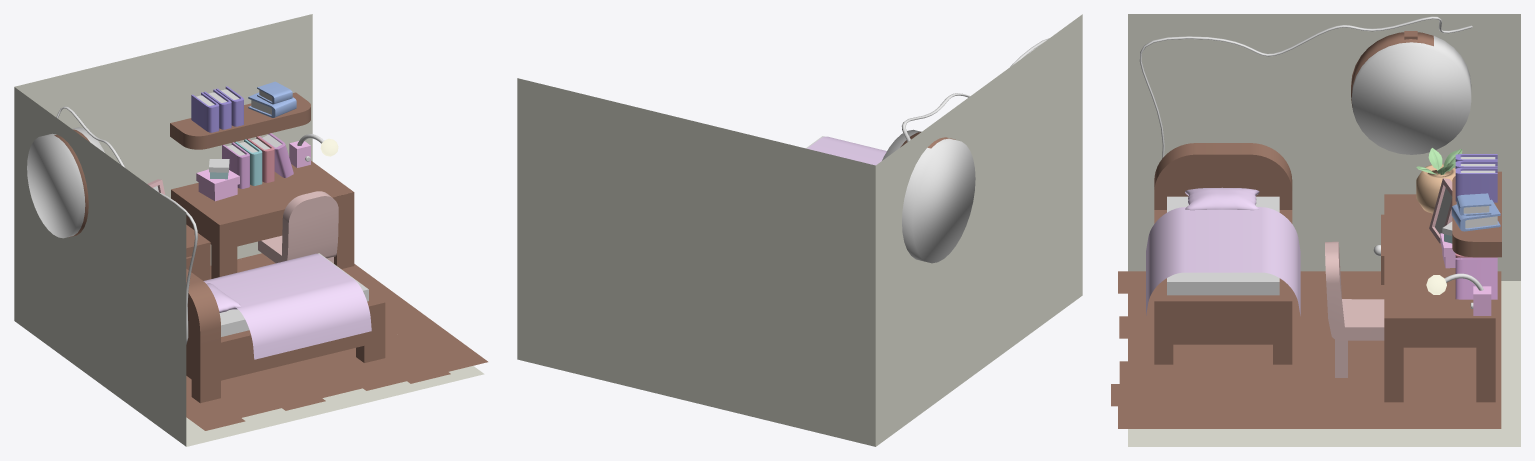
The model's file is why.gltf.
The picture shows the model from 3 angles, left to right: view 1: azimuth 30°, elevation 25°; view 2: azimuth 150°, elevation 25°; view 3: azimuth 270°, elevation 25°; orthographic projection. The views are drawn at different scales.
Visible parts, largest first — view 1: Cube, Cube.001, Cube.004, Cube.006, Cube.002, Cylinder, Cube.008, Cube.011, Cube.012, Cube.017, Cube.018, Cube.007 (+5 smaller); view 2: Cube, Cylinder, Cube.004; view 3: Cube, Cube.001, Cube.002, Cylinder, Cube.006, Cube.004, Cube.003, Cube.008, Cube.007, Cube.011, Cube.017, Cube.005 (+8 smaller).
Part boxes in pixels (left/top/right/bottom): Cube: left=14, top=14, right=484, bottom=446; Cube.001: left=186, top=253, right=487, bottom=430; Cube.004: left=203, top=253, right=371, bottom=359; Cube.006: left=171, top=161, right=354, bottom=278; Cube.002: left=186, top=269, right=385, bottom=403; Cylinder: left=27, top=127, right=104, bottom=238; Cube.008: left=258, top=191, right=338, bottom=263; Cube.011: left=170, top=92, right=310, bottom=149; Cube.012: left=222, top=133, right=293, bottom=188; Cube.017: left=191, top=86, right=243, bottom=132; Cube.018: left=248, top=81, right=296, bottom=117; Cube.007: left=186, top=224, right=210, bottom=280; Cube: left=517, top=14, right=1082, bottom=446; Cylinder: left=882, top=129, right=975, bottom=263; Cube.004: left=807, top=136, right=886, bottom=165; Cube: left=1128, top=14, right=1520, bottom=446; Cube.001: left=1111, top=271, right=1501, bottom=428; Cube.002: left=1154, top=143, right=1292, bottom=364; Cylinder: left=1351, top=36, right=1471, bottom=154; Cube.006: left=1384, top=243, right=1495, bottom=402; Cube.004: left=1146, top=207, right=1300, bottom=315; Cube.003: left=1167, top=196, right=1279, bottom=295; Cube.008: left=1325, top=241, right=1384, bottom=340; Cube.007: left=1381, top=194, right=1438, bottom=286; Cube.011: left=1452, top=171, right=1501, bottom=257; Cube.017: left=1455, top=154, right=1497, bottom=202; Cube.005: left=1185, top=187, right=1259, bottom=210.
Size of what is drawn, in the model's own units: 4.12 by 3.06 by 4.17.
